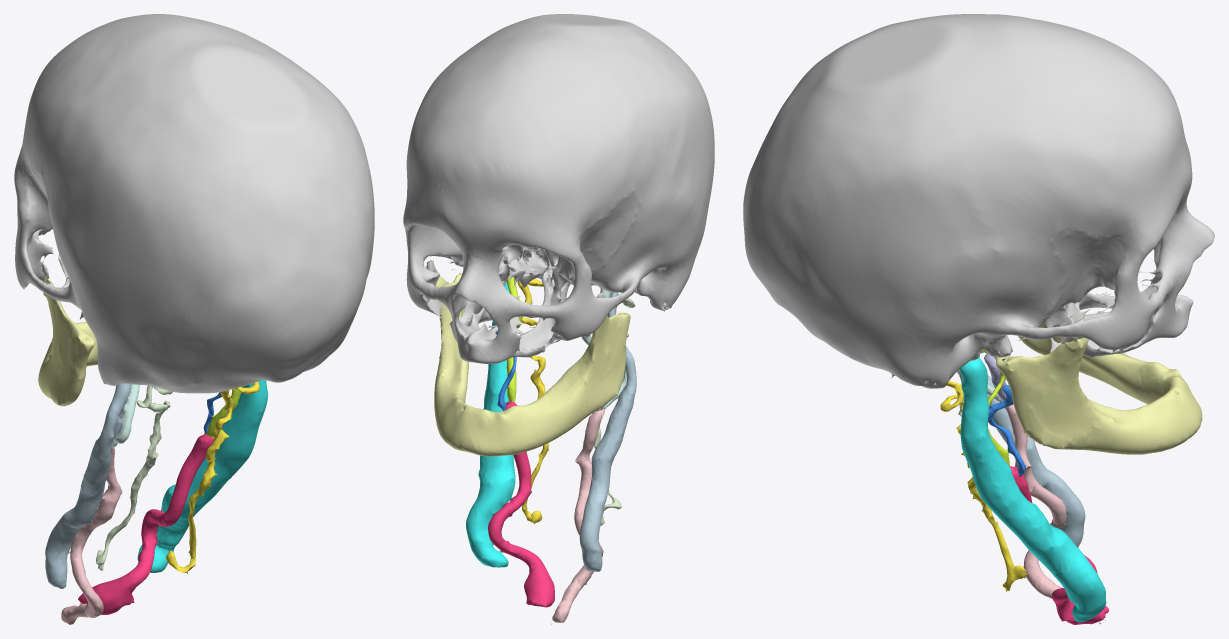
File: skull-vessels-experimental-fit.glb
3 renders of one model, left to right at view 1: azimuth 30°, elevation 25°; view 2: azimuth 150°, elevation 25°; view 3: azimuth 270°, elevation 25°, orthographic. The views are drawn at different scales.
Visible parts, largest first — view 1: SPL_HN_skull, SPL_HN_right_internal_jugular_vein, SPL_HN_left_internal_jugular_vein, SPL_HN_mandible, SPL_HN_right_common_carotid, SPL_HN_left_common_carotid, SPL_HN_right_vertebral_artery, SPL_HN_left_vertebral_artery, SPL_HN_left_internal_carotid; view 2: SPL_HN_skull, SPL_HN_mandible, SPL_HN_right_internal_jugular_vein, SPL_HN_left_internal_jugular_vein, SPL_HN_right_common_carotid, SPL_HN_left_common_carotid, SPL_HN_right_vertebral_artery, SPL_HN_right_internal_carotid; view 3: SPL_HN_skull, SPL_HN_mandible, SPL_HN_right_internal_jugular_vein, SPL_HN_left_internal_jugular_vein, SPL_HN_left_common_carotid, SPL_HN_right_vertebral_artery, SPL_HN_right_common_carotid, SPL_HN_right_external_carotid.
Boxes of the visible parts, x1=… form: SPL_HN_skull: x1=14, y1=14, x2=374, y2=393; SPL_HN_right_internal_jugular_vein: x1=137, y1=380, x2=268, y2=572; SPL_HN_left_internal_jugular_vein: x1=45, y1=383, x2=131, y2=588; SPL_HN_mandible: x1=38, y1=263, x2=97, y2=406; SPL_HN_right_common_carotid: x1=78, y1=433, x2=214, y2=614; SPL_HN_left_common_carotid: x1=61, y1=447, x2=122, y2=624; SPL_HN_right_vertebral_artery: x1=166, y1=381, x2=259, y2=573; SPL_HN_left_vertebral_artery: x1=96, y1=385, x2=172, y2=570; SPL_HN_left_internal_carotid: x1=111, y1=384, x2=139, y2=447; SPL_HN_skull: x1=403, y1=14, x2=714, y2=363; SPL_HN_mandible: x1=426, y1=260, x2=630, y2=456; SPL_HN_right_internal_jugular_vein: x1=466, y1=282, x2=516, y2=567; SPL_HN_left_internal_jugular_vein: x1=579, y1=292, x2=636, y2=571; SPL_HN_right_common_carotid: x1=488, y1=401, x2=554, y2=607; SPL_HN_left_common_carotid: x1=551, y1=408, x2=604, y2=624; SPL_HN_right_vertebral_artery: x1=517, y1=278, x2=548, y2=524; SPL_HN_right_internal_carotid: x1=506, y1=276, x2=521, y2=401; SPL_HN_skull: x1=743, y1=14, x2=1214, y2=388; SPL_HN_mandible: x1=996, y1=318, x2=1202, y2=454; SPL_HN_right_internal_jugular_vein: x1=959, y1=357, x2=1106, y2=622; SPL_HN_left_internal_jugular_vein: x1=987, y1=374, x2=1085, y2=547; SPL_HN_left_common_carotid: x1=1002, y1=401, x2=1105, y2=624; SPL_HN_right_vertebral_artery: x1=940, y1=380, x2=1027, y2=591; SPL_HN_right_common_carotid: x1=1010, y1=466, x2=1108, y2=624; SPL_HN_right_external_carotid: x1=988, y1=385, x2=1025, y2=476.
Bounding box in the file's own units: 145 × 312 × 213.
